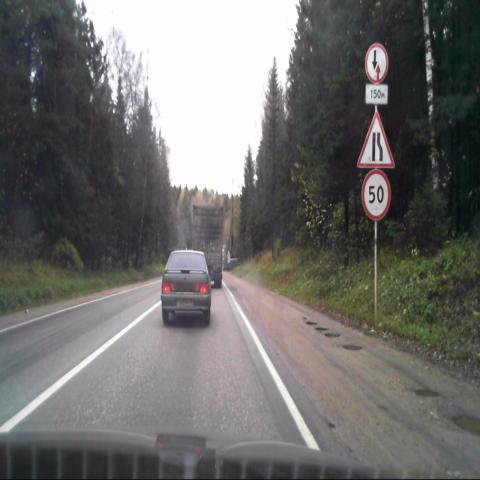2_6: (365, 42, 388, 83)
8_1_1: (365, 84, 388, 104)
